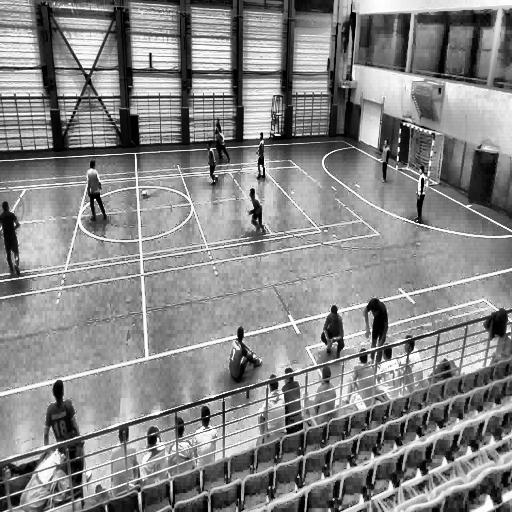ball: (142, 188, 147, 197)
player: (0, 199, 22, 276), (365, 297, 388, 365), (86, 158, 108, 222), (321, 303, 344, 362), (248, 186, 265, 236), (414, 164, 427, 223), (205, 140, 220, 190), (214, 121, 230, 163), (256, 130, 267, 180), (379, 137, 390, 184), (214, 116, 224, 162)
